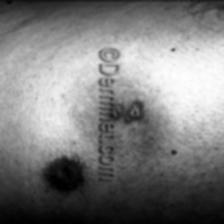Toxin: (42, 156, 86, 194), (110, 99, 146, 120)
